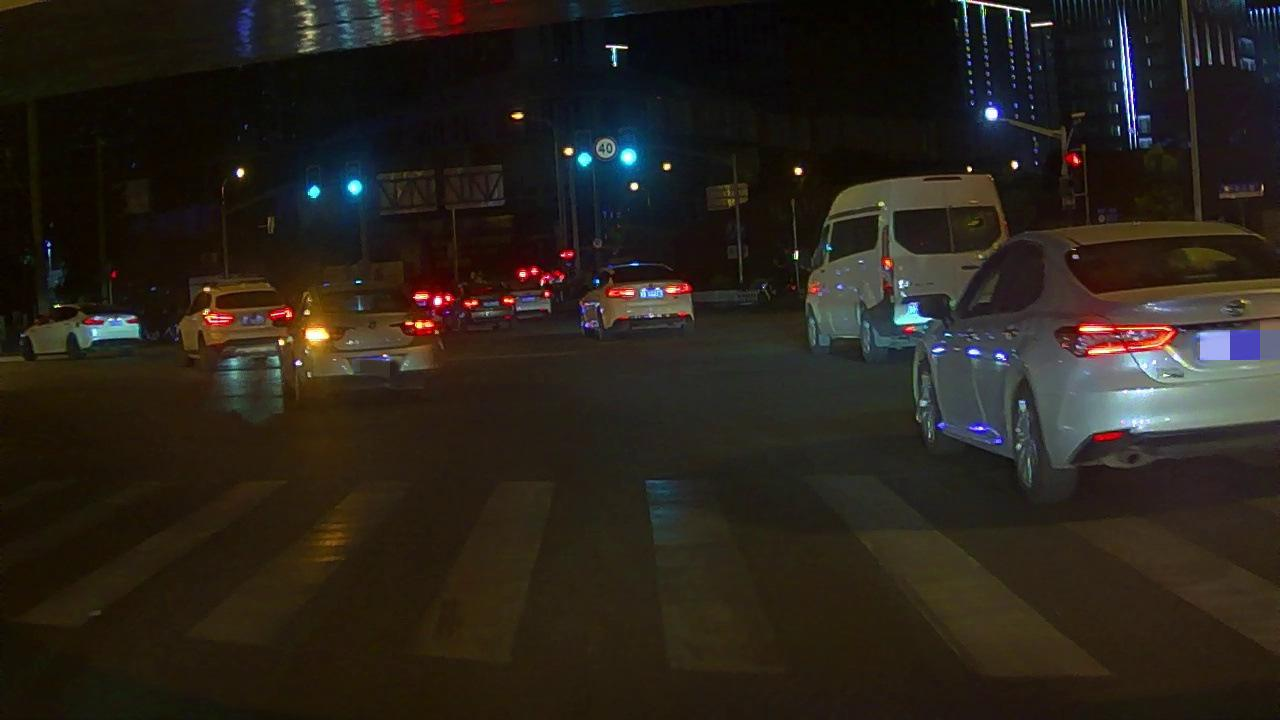traffic_light: (620, 132, 639, 176), (346, 165, 363, 202), (577, 133, 593, 171), (306, 167, 321, 201)
